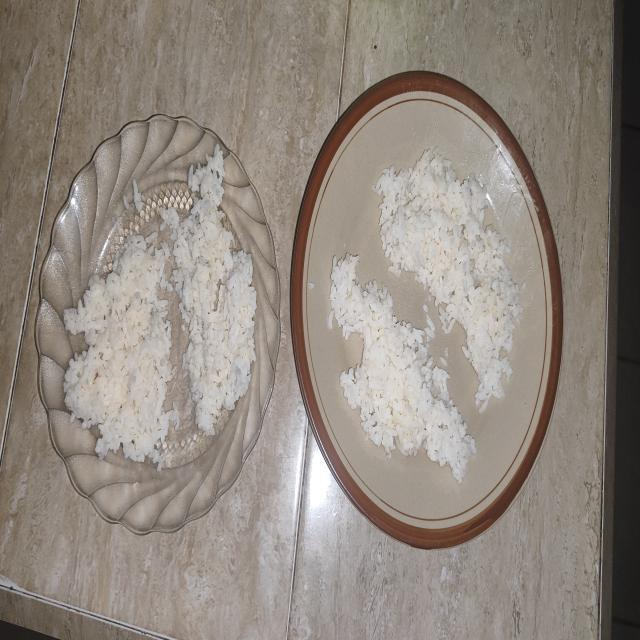nasi_putih: (372, 148, 522, 413), (328, 254, 476, 484), (64, 232, 180, 471), (170, 146, 256, 434)
